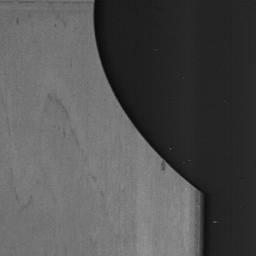Crescent gap: (93, 0, 200, 193)
